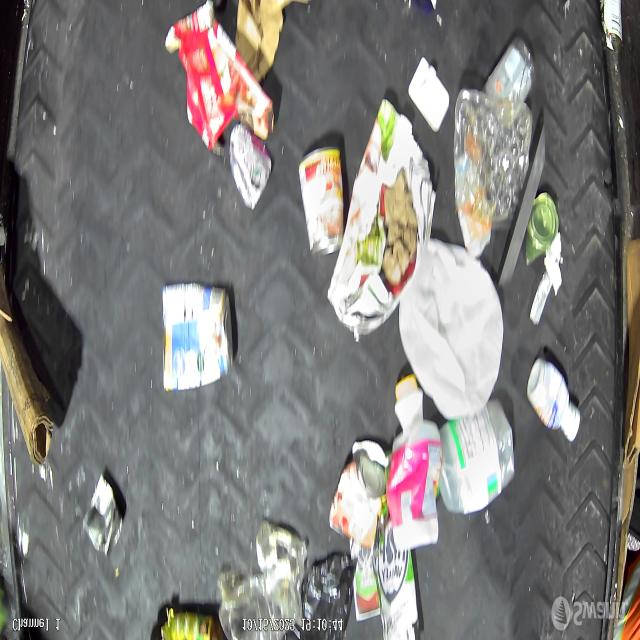can: (156, 280, 236, 398), (328, 439, 388, 551), (297, 143, 346, 261), (82, 470, 125, 560), (520, 192, 558, 266), (598, 0, 626, 56)
milk_jug: (396, 237, 504, 421), (436, 398, 518, 516)
plastic_bottle: (486, 36, 537, 113)
